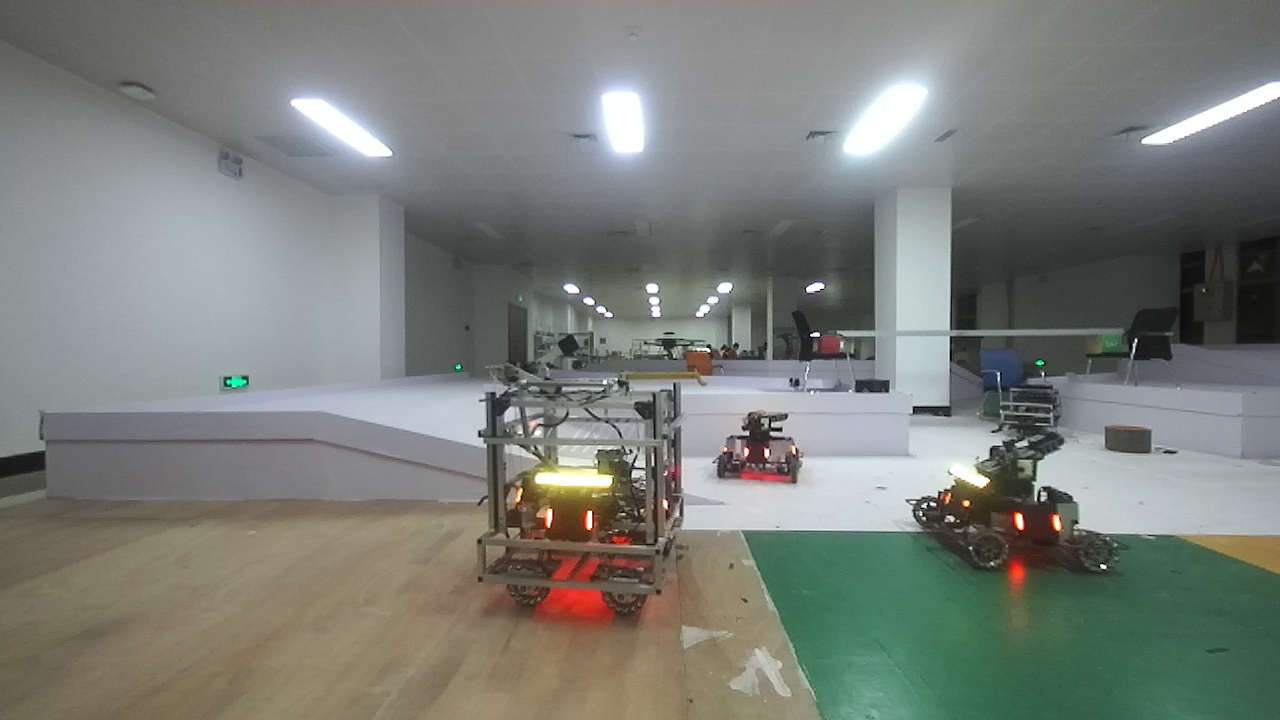car: (473, 385, 693, 612), (909, 423, 1119, 573), (713, 414, 815, 485)
